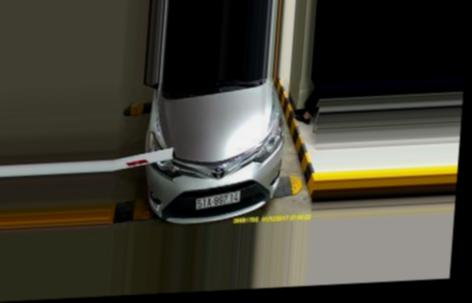License_Plate: (193, 190, 242, 212)
